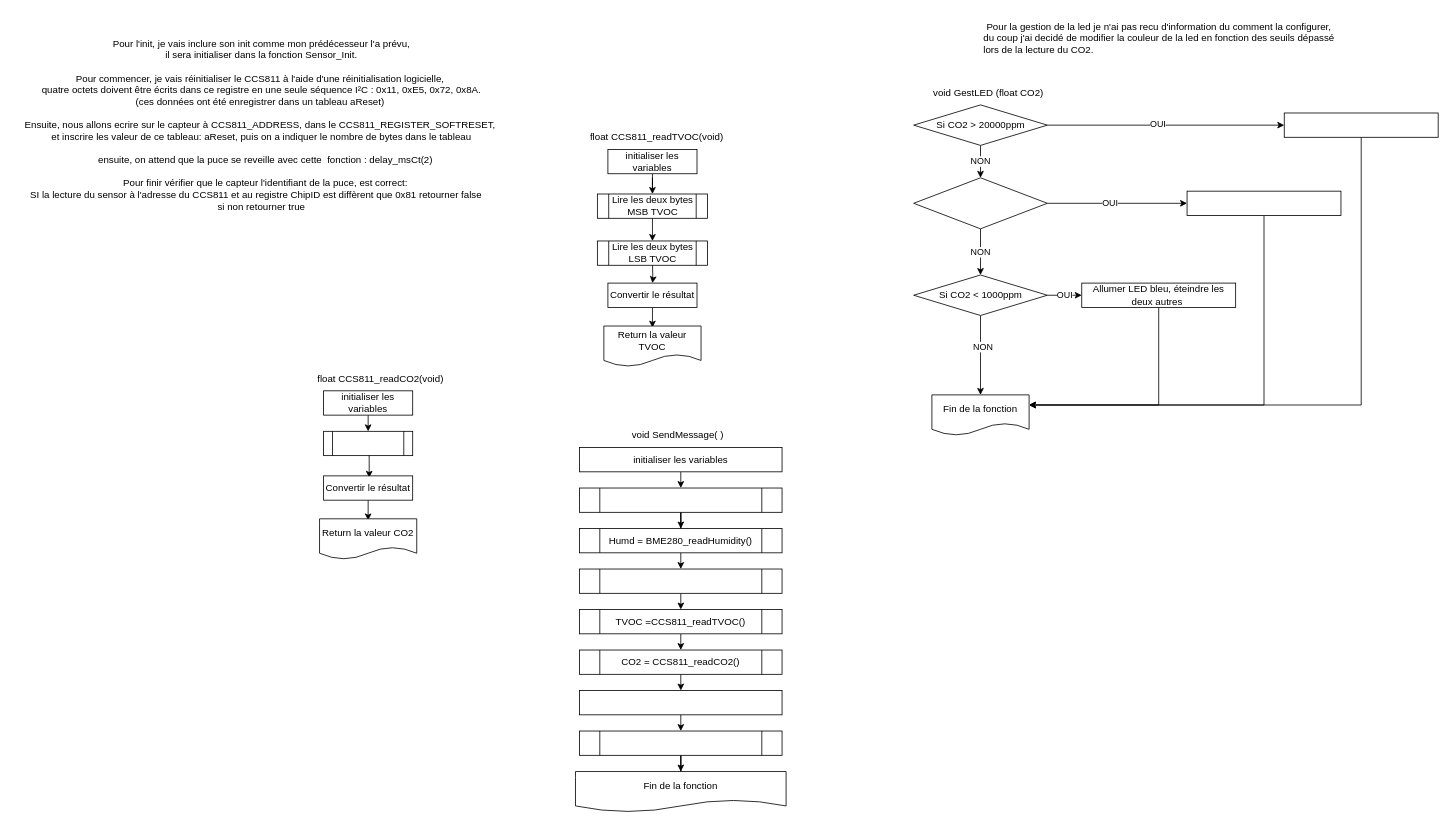
The diagram is 1452 pixels wide and 826 high, and some of its shapes have lost their labels. The shapes that lost their labels are listed below. From the top down, each one's box as (x1, y1, x2, y2) in pixels, then its label:
(1283, 112, 1438, 137): Allumer LED rouge, éteindre les deux autres
(913, 177, 1047, 229): Si CO2 <= 20000ppm && >= 1000ppm
(1186, 190, 1341, 215): Allumer LED verte, éteindre les deux autres
(323, 431, 413, 456): Lire les deux bytes CO2
(579, 487, 782, 512): Temp = BME280_readTemperature()
(579, 568, 782, 593): Press = BME280_readPressure()
(579, 690, 782, 715): Remplir un tableau avec toutes ces valeurs
(579, 730, 782, 755): Envoie de la trame
